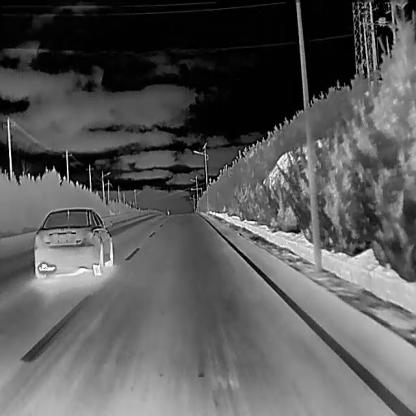car: (33, 208, 113, 276)
